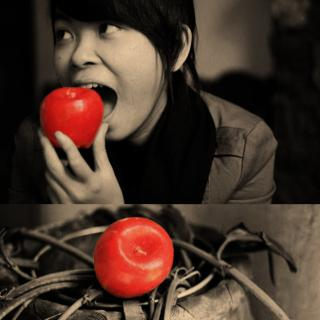tomato: (41, 74, 106, 148)
